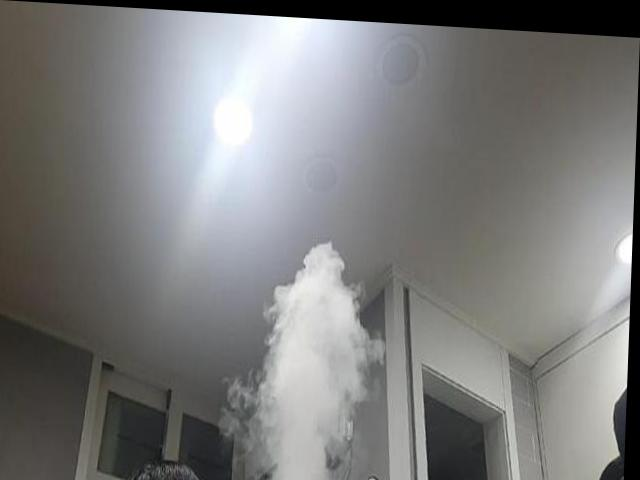smoke: (240, 203, 393, 480)
